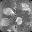people: (1, 17, 12, 27), (3, 7, 15, 16), (15, 17, 22, 26)
